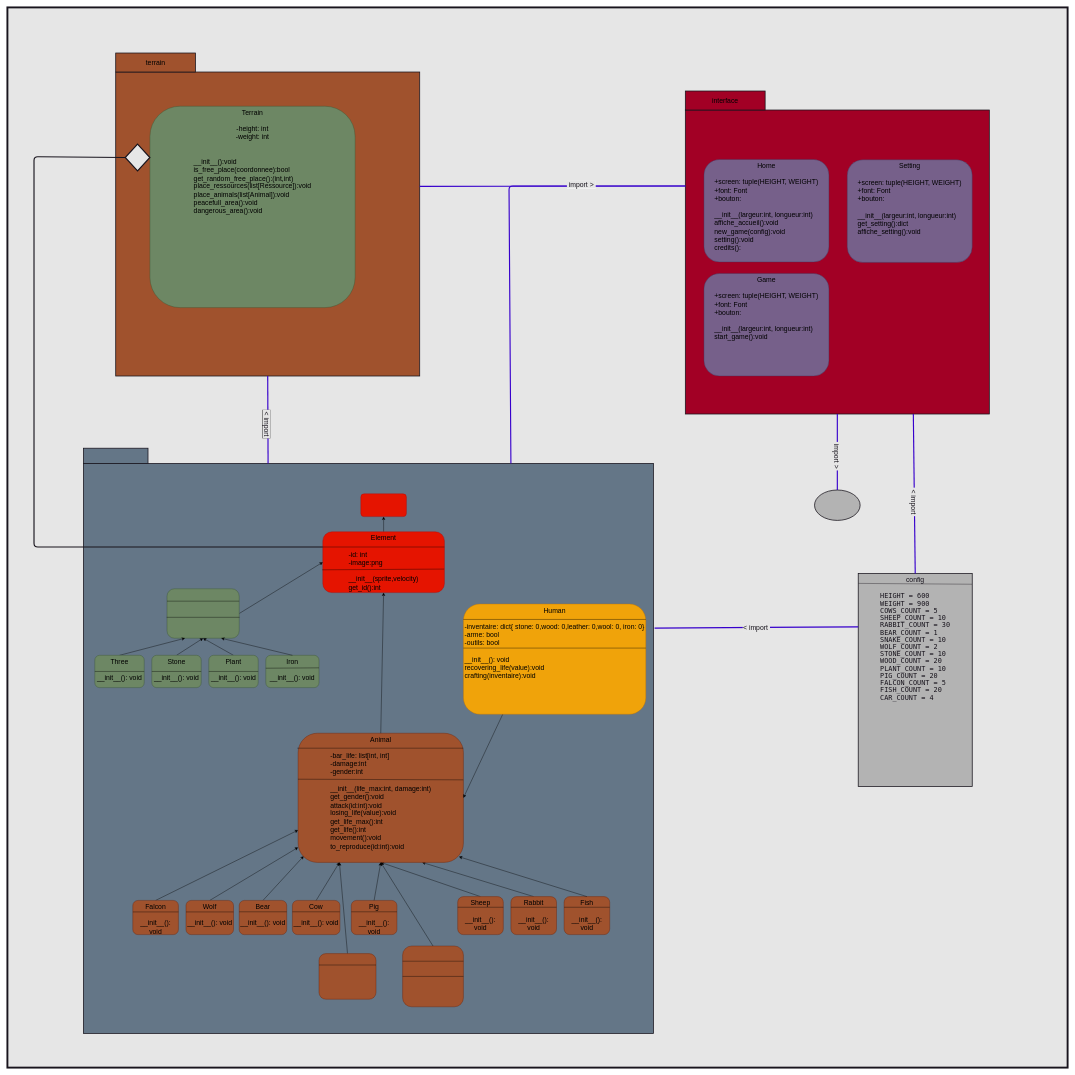
Some shapes in this 1075 by 1075 pixel diagram are drawn without their labels. The centre of each missing label's shape, as x and y in pixels:
"Car -damage __init__():void" goes at point 347,976.
"elements" goes at point 115,456.
"Main" goes at point 837,505.
"Ressource -durability:int __init__(durability:int)" goes at point 203,613.
"Snake -image: PNG __init__(): poisoned():void" goes at point 432,976.
"Sprite" goes at point 383,505.
